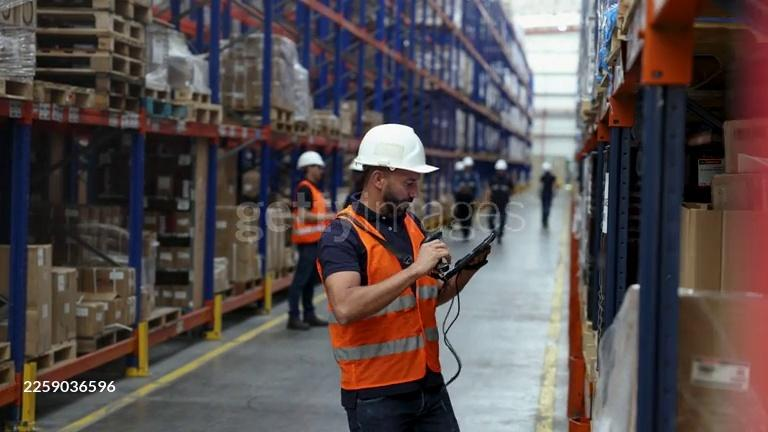helmet: (350, 123, 440, 174), (297, 150, 326, 167), (494, 160, 507, 171), (462, 157, 474, 168), (542, 162, 553, 173)
person: (320, 124, 492, 432), (286, 151, 339, 330), (487, 159, 513, 245), (449, 162, 476, 239), (539, 164, 557, 234)
